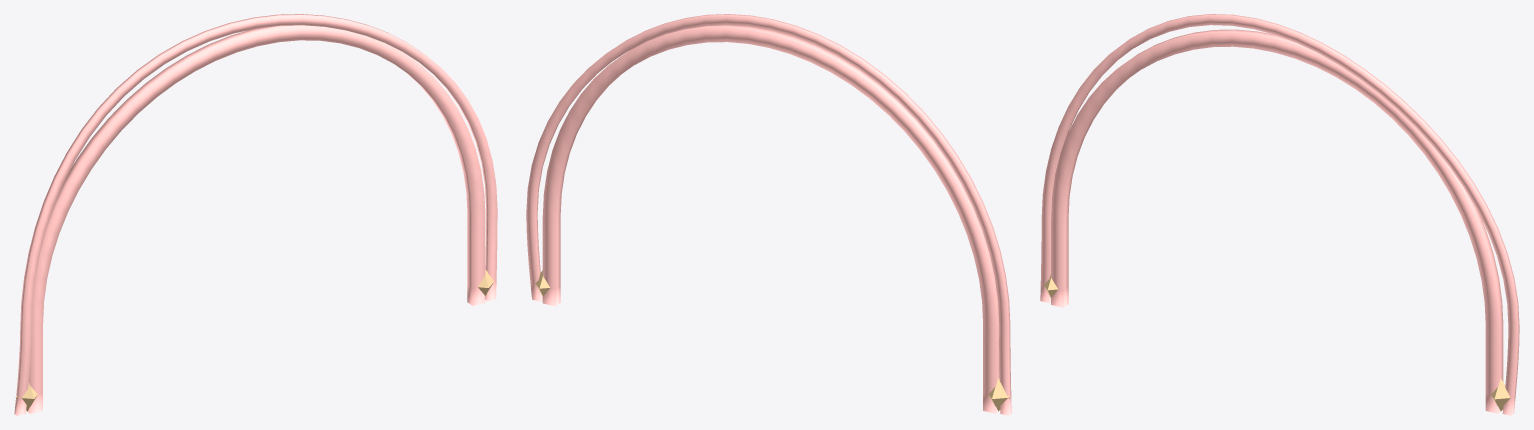
Rendered from finish-portal-lod1.glb.
The picture shows the model from 3 angles, left to right: view 1: azimuth 30°, elevation 25°; view 2: azimuth 150°, elevation 25°; view 3: azimuth 330°, elevation 25°; orthographic projection.
Parts seen in each view (by area): view 1: finish_inner_glass, finish_foot_1; view 2: finish_inner_glass, finish_foot_1; view 3: finish_inner_glass, finish_foot_1.
Part boxes in pixels (x1,y1,x2,y2): finish_inner_glass: (14,14,497,415); finish_foot_1: (15,269,494,411); finish_inner_glass: (526,14,1011,415); finish_foot_1: (535,270,1010,411); finish_inner_glass: (1040,14,1519,415); finish_foot_1: (1043,275,1510,411).
Bounding box in the file's own units: 16.19 × 10.83 × 0.7199.
